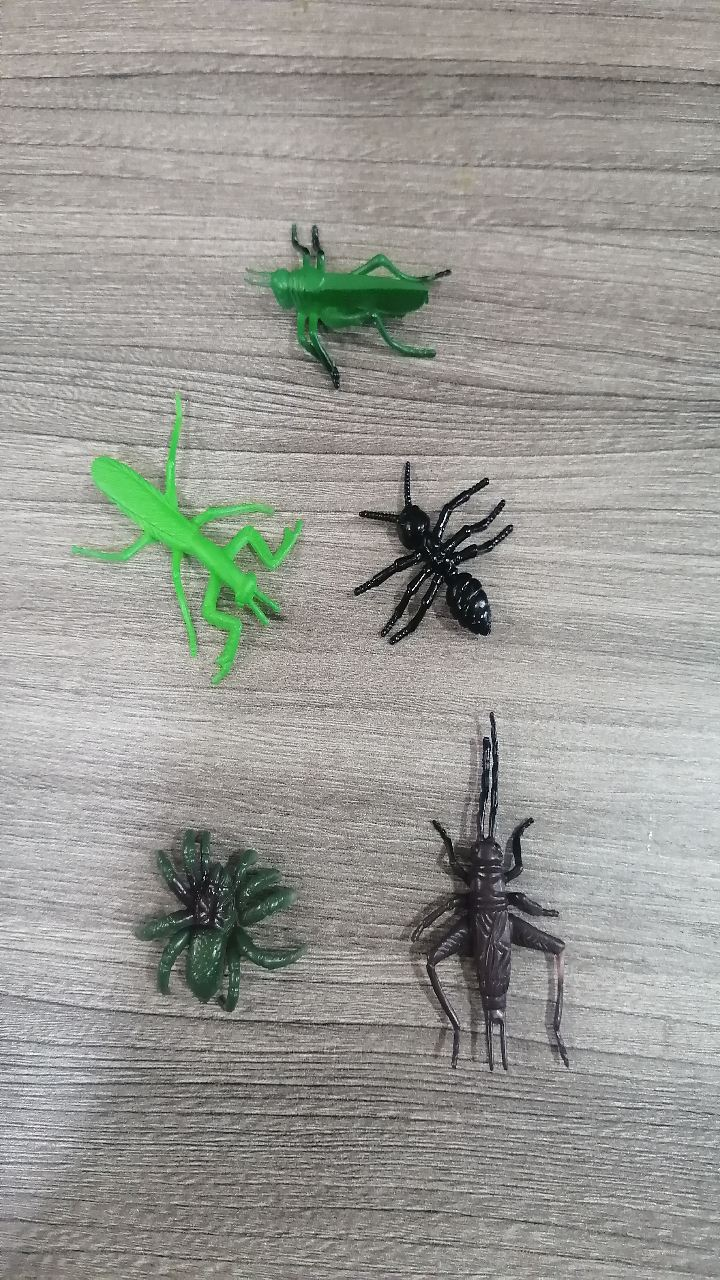intruso: (44, 365, 314, 726), (360, 715, 591, 1075), (83, 792, 331, 1045), (326, 431, 540, 682), (221, 194, 464, 415)
